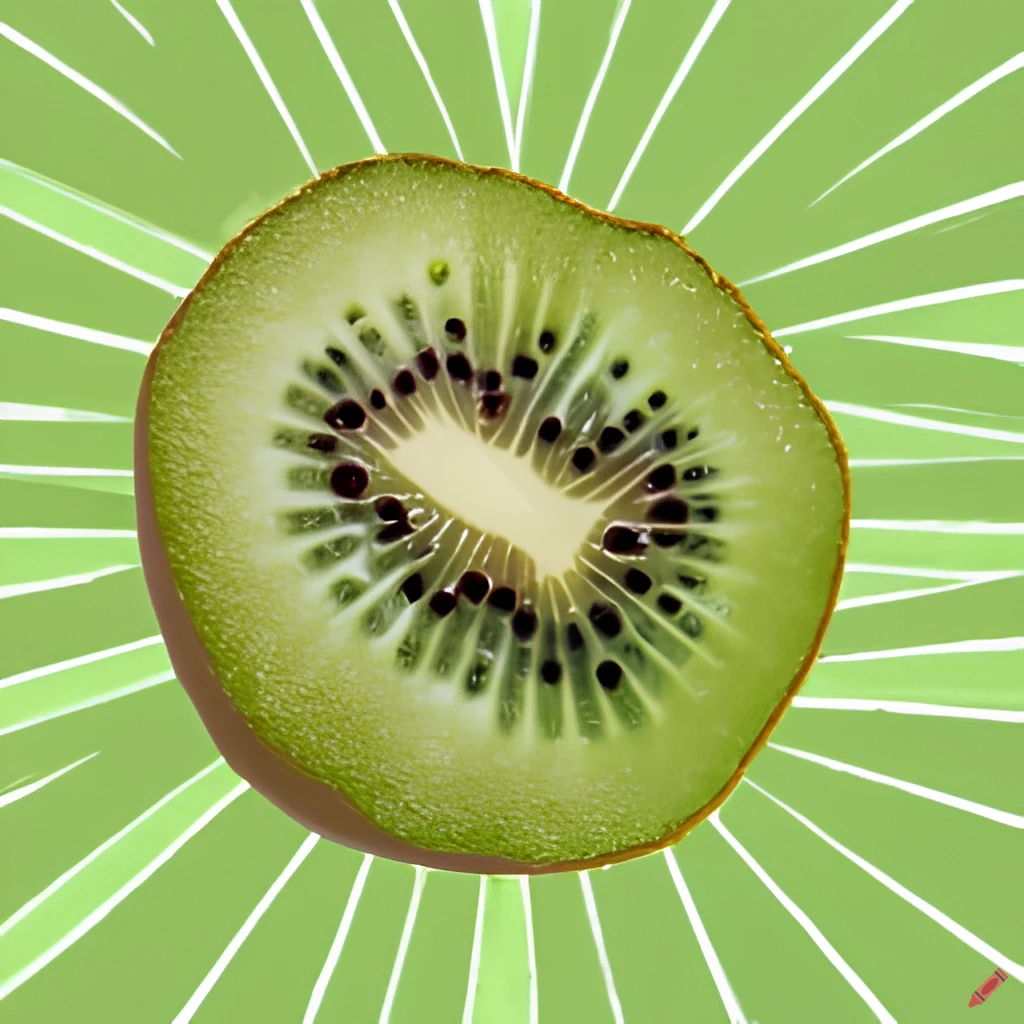Kiwi: (127, 120, 846, 882)
